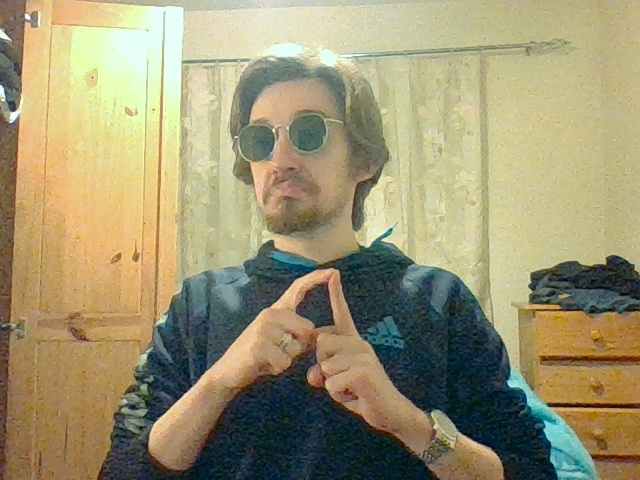daughter: (256, 268, 364, 373)
